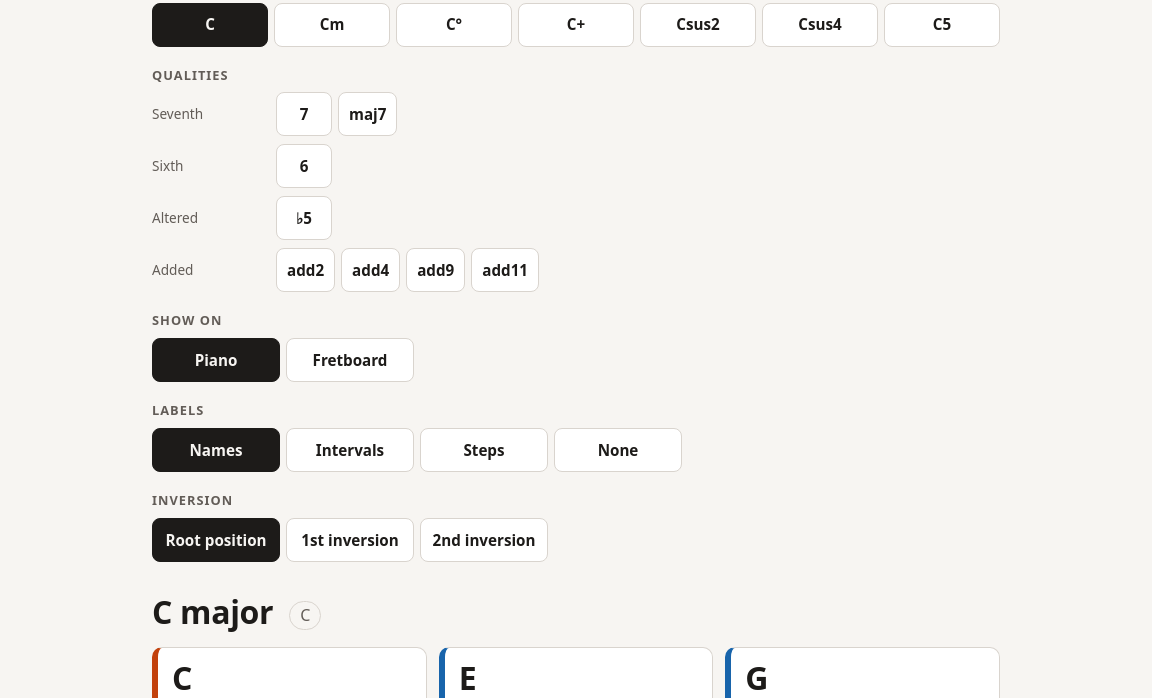
Scenario: the instrument picker › shows the ukulele with four strings and the familiar C chord
(page scrolled)
Click the radio button labelled "Fretboard" at {"x": 350, "y": 360}, box [286, 338, 414, 382]
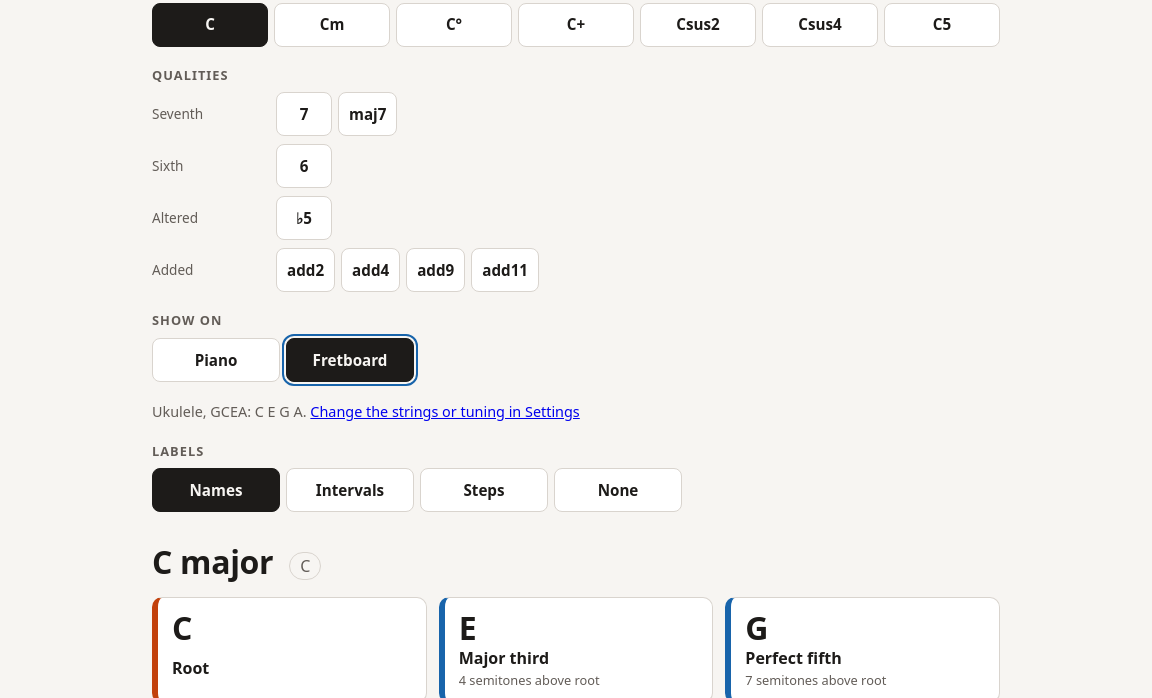
Check: the text "Ukulele, GCEA: C E G A" is shown, box [152, 402, 580, 421]
